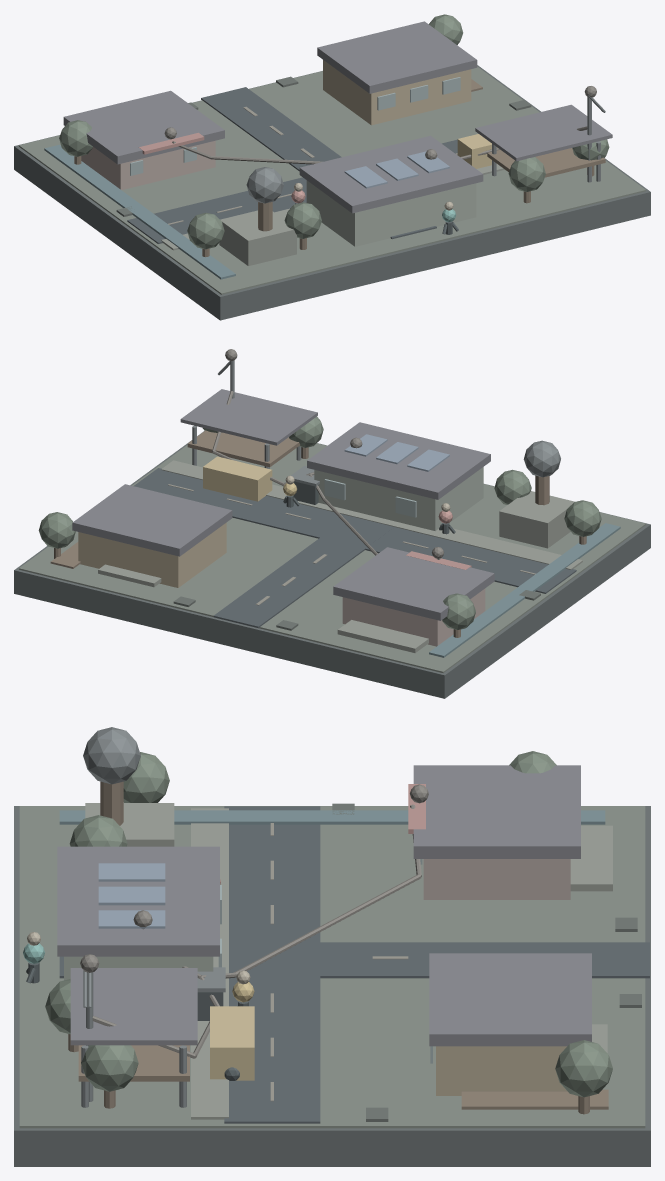
File: yudae_intro.glb
3 views of the same model, one above another, from view 1: azimuth 30°, elevation 25°; view 2: azimuth 150°, elevation 25°; view 3: azimuth 270°, elevation 25° (orthographic). The views are drawn at different scales.
Visible parts, largest first — view 1: g0001, g0000, g0037, g0043, g0031, g0042, g0003, g0054, g0036, g0030, g0061, g0016 (+14 smaller); view 2: g0001, g0000, g0002, g0037, g0043, g0031, g0003, g0042, g0036, g0054, g0015, g0061 (+14 smaller); view 3: g0001, g0000, g0002, g0037, g0031, g0043, g0003, g0054, g0030, g0036, g0015, g0016 (+19 smaller).
Boxes of the visible parts, bbox=[...] form: g0001: bbox=[19, 66, 645, 294]; g0000: bbox=[14, 65, 650, 320]; g0037: bbox=[317, 21, 477, 93]; g0043: bbox=[299, 135, 483, 213]; g0031: bbox=[63, 90, 224, 164]; g0042: bbox=[306, 180, 476, 246]; g0003: bbox=[201, 87, 436, 239]; g0054: bbox=[475, 104, 612, 161]; g0036: bbox=[323, 60, 471, 125]; g0030: bbox=[81, 140, 215, 190]; g0061: bbox=[219, 210, 296, 265]; g0016: bbox=[44, 144, 235, 279]; g0001: bbox=[19, 443, 645, 673]; g0000: bbox=[14, 431, 650, 698]; g0002: bbox=[133, 468, 576, 593]; g0037: bbox=[72, 484, 232, 556]; g0043: bbox=[307, 422, 490, 499]; g0031: bbox=[333, 547, 494, 620]; g0003: bbox=[213, 516, 394, 628]; g0042: bbox=[314, 467, 483, 530]; g0036: bbox=[78, 522, 226, 587]; g0054: bbox=[180, 389, 317, 445]; g0015: bbox=[161, 460, 582, 569]; g0061: bbox=[499, 491, 575, 548]; g0001: bbox=[19, 806, 645, 1128]; g0000: bbox=[14, 806, 650, 1166]; g0002: bbox=[224, 806, 320, 1123]; g0037: bbox=[429, 953, 591, 1046]; g0031: bbox=[413, 765, 580, 858]; g0043: bbox=[57, 846, 219, 956]; g0003: bbox=[59, 942, 649, 978]; g0054: bbox=[70, 968, 197, 1045]; g0030: bbox=[423, 859, 570, 899]; g0036: bbox=[436, 1046, 567, 1095]; g0015: bbox=[191, 808, 228, 1119]; g0016: bbox=[59, 810, 605, 824].
Bounding box in the file's own units: 3.45 × 0.918 × 2.86.
